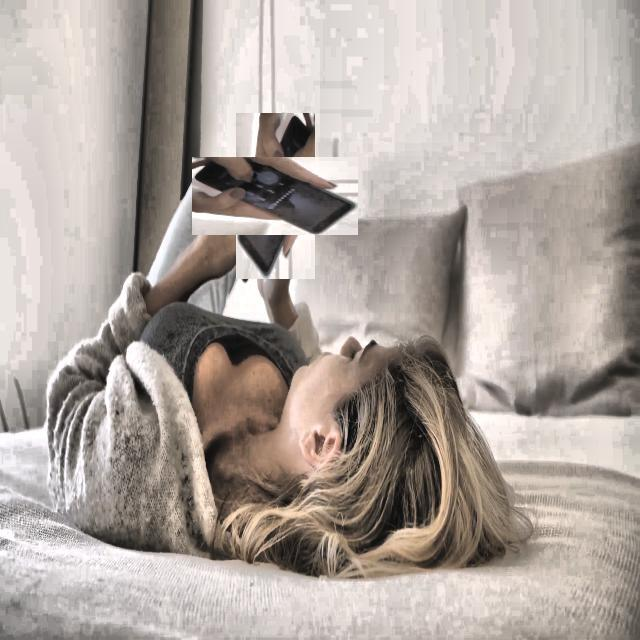Phone: (214, 135, 337, 257)
